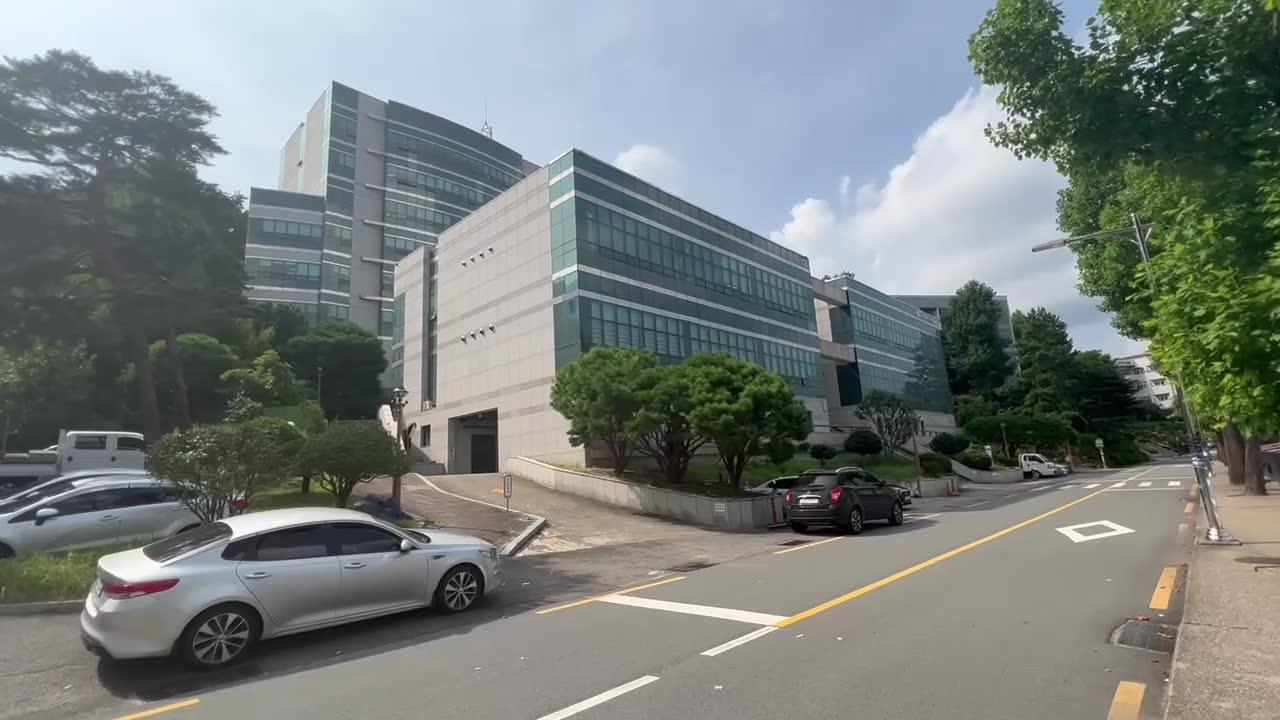building: (247, 74, 939, 410)
